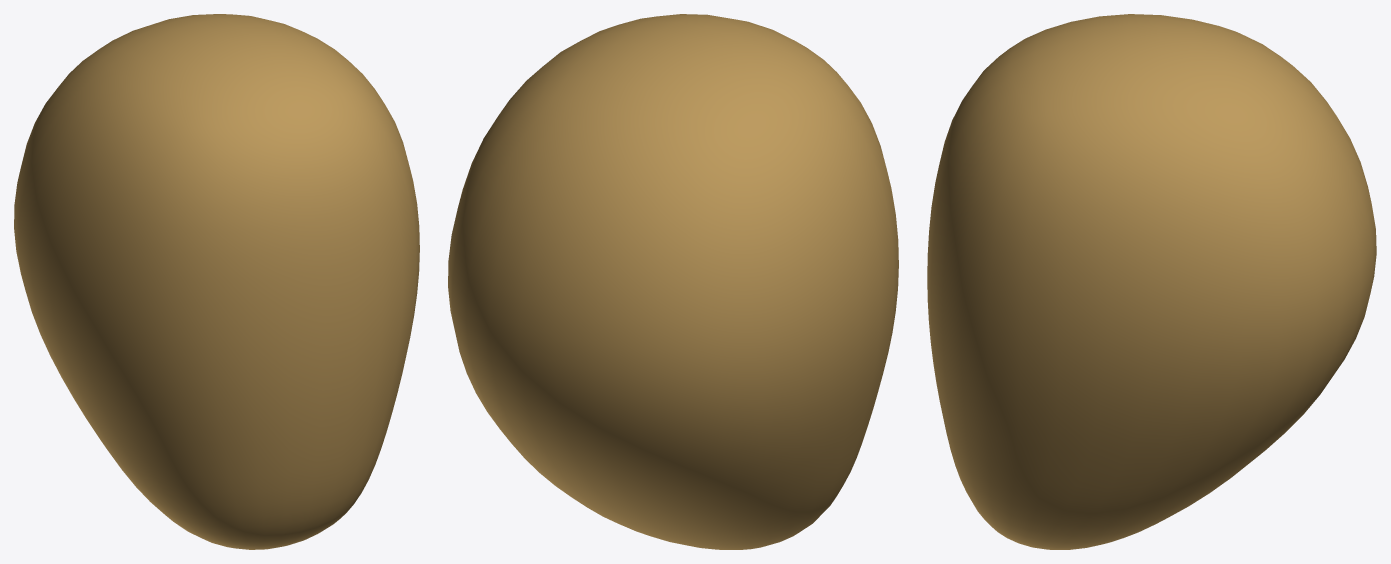
Rendered from head_head_004.gltf.
The picture shows the model from 3 angles, left to right: view 1: azimuth 30°, elevation 25°; view 2: azimuth 150°, elevation 25°; view 3: azimuth 270°, elevation 25°; orthographic projection. The views are drawn at different scales.
Visible parts, largest first — view 1: head.004; view 2: head.004; view 3: head.004.
Boxes of the visible parts, x1,y1,x2,y2 form: head.004: [14, 14, 419, 549]; head.004: [448, 14, 898, 549]; head.004: [927, 14, 1376, 549].
Bounding box in the file's own units: 0.146 × 0.1966 × 0.1608.
